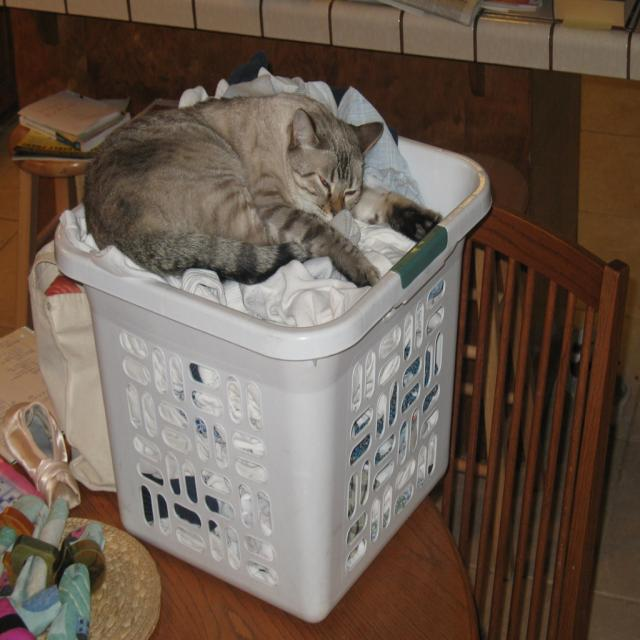Cat: (80, 90, 441, 288)
